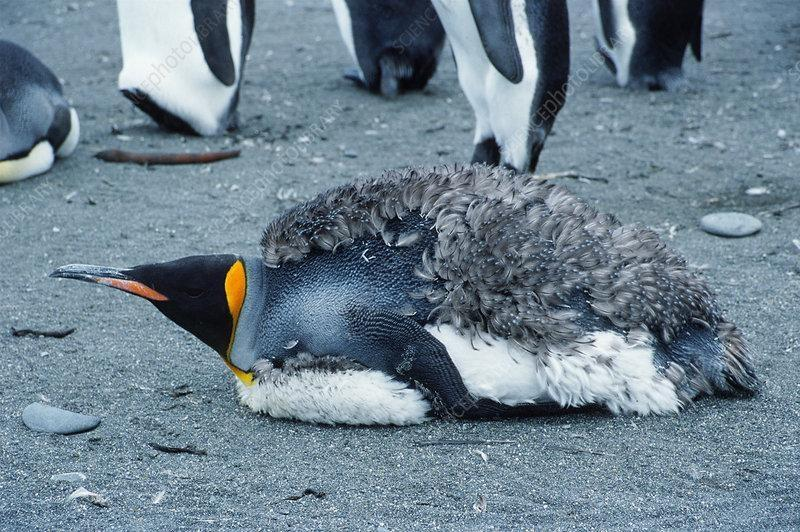Penguin: (52, 164, 759, 424), (431, 0, 570, 176), (117, 0, 255, 137), (1, 39, 81, 184), (331, 0, 445, 101), (590, 0, 704, 91)
